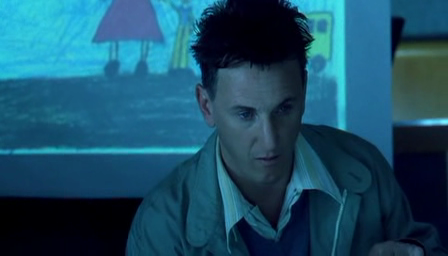face: (219, 77, 304, 185)
mcu: (1, 1, 448, 256)
person: (125, 1, 448, 256)
